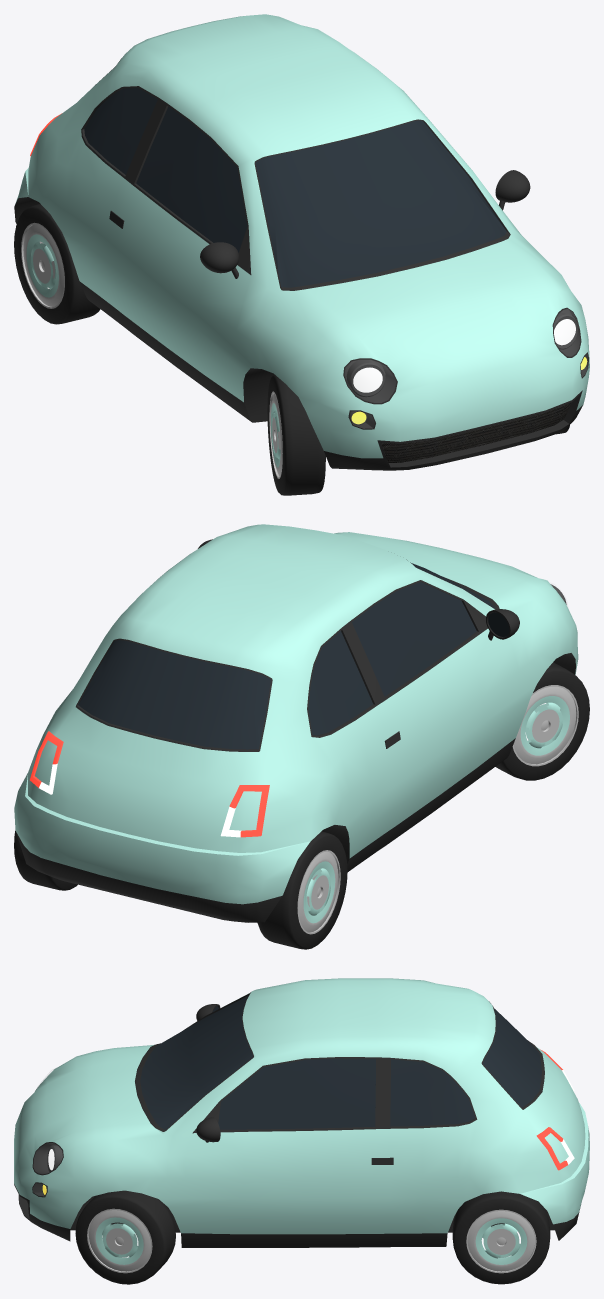
Rendered from car-6.glb.
3 renders of one model, top to bottom at view 1: azimuth 30°, elevation 25°; view 2: azimuth 150°, elevation 25°; view 3: azimuth 270°, elevation 25°, orthographic. The views are drawn at different scales.
Visible parts, largest first — view 1: CarBody.006, Wheel.011, Wheel.010; view 2: CarBody.006, Wheel.010, Wheel.011, Wheel.009; view 3: CarBody.006, Wheel.008, Wheel.009.
Part boxes in pixels (box(x1,y1,x2,y2)): CarBody.006: box(14, 14, 589, 470); Wheel.011: box(14, 204, 100, 324); Wheel.010: box(267, 375, 325, 495); CarBody.006: box(14, 524, 578, 922); Wheel.010: box(495, 662, 589, 780); Wheel.011: box(257, 831, 347, 949); Wheel.009: box(14, 831, 77, 890); CarBody.006: box(14, 978, 589, 1247); Wheel.008: box(75, 1190, 175, 1284); Wheel.009: box(452, 1191, 550, 1284).
Bounding box in the file's own units: 2.05 × 1.7 × 3.96.
10 materials, 1 textured.
